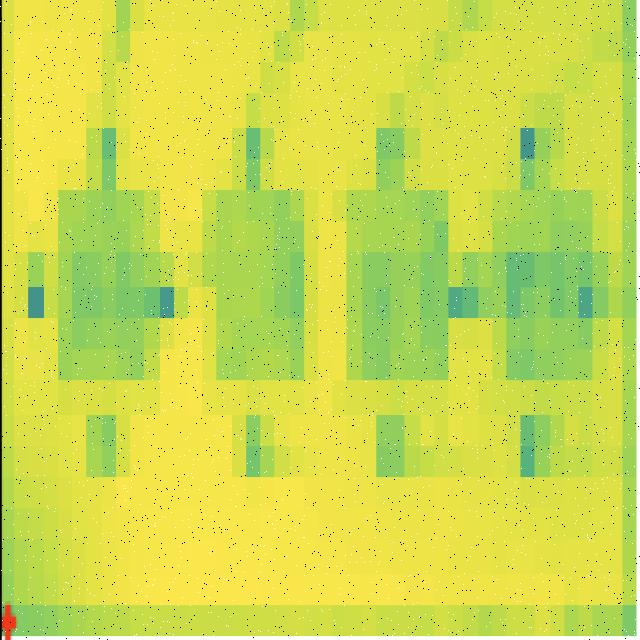Concrete: (201, 172, 322, 404)
Glass: (38, 164, 178, 406)
Metal: (342, 158, 456, 422)
Wood: (484, 166, 605, 423)
